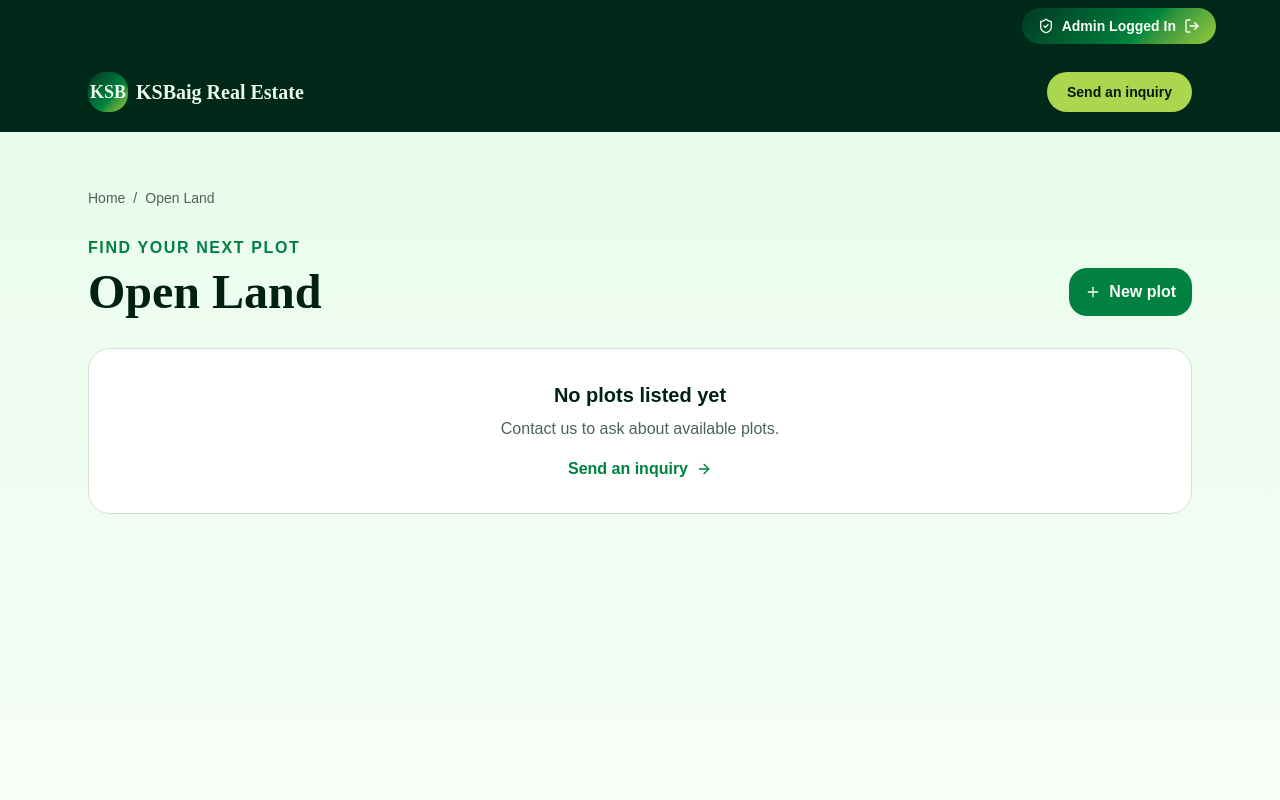
Open land listings › shows a storage error without adding a plot
Expected: the heading "Open Land" is shown, [88,268,321,316]
Step 1. Click the button "New plot" → (1131, 292), box [1069,268,1192,316]
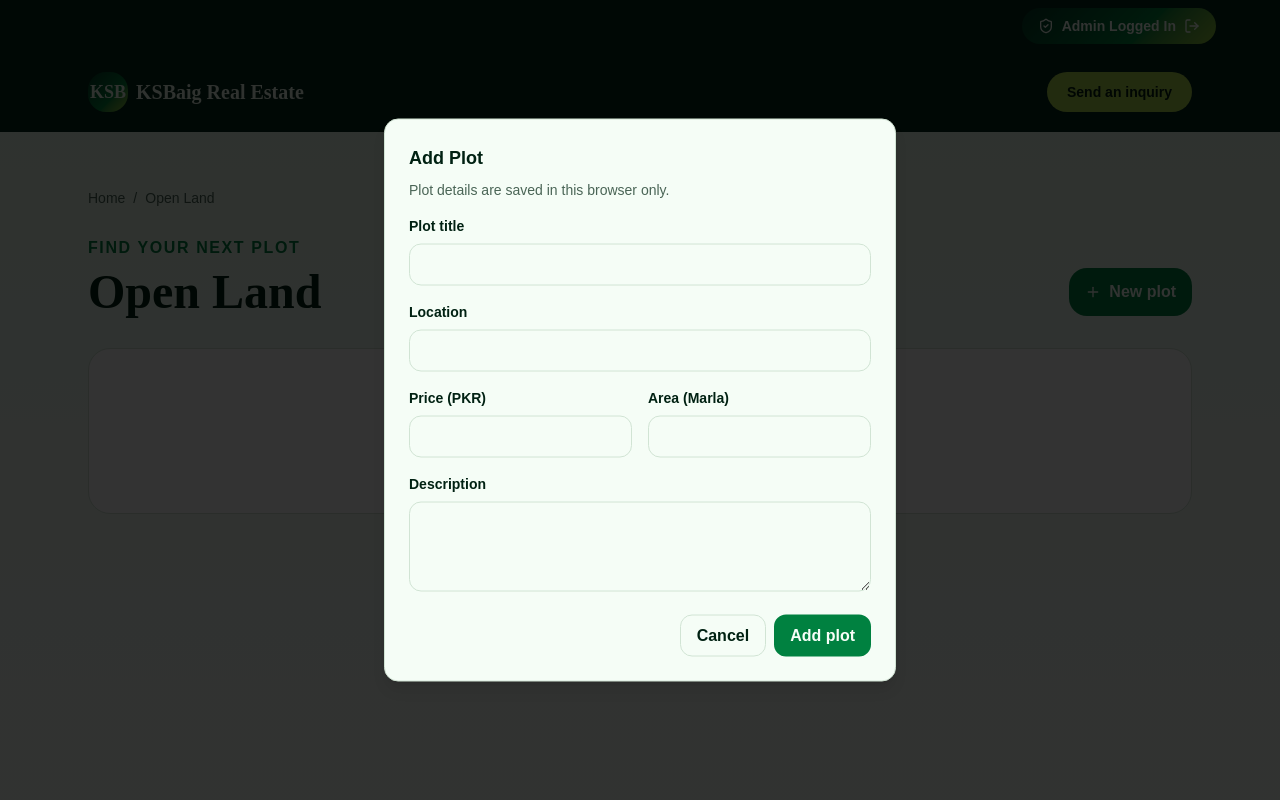
Step 2. Type "Plot" into the field labelled "Plot title" → (640, 264), box [409,244,871,286]
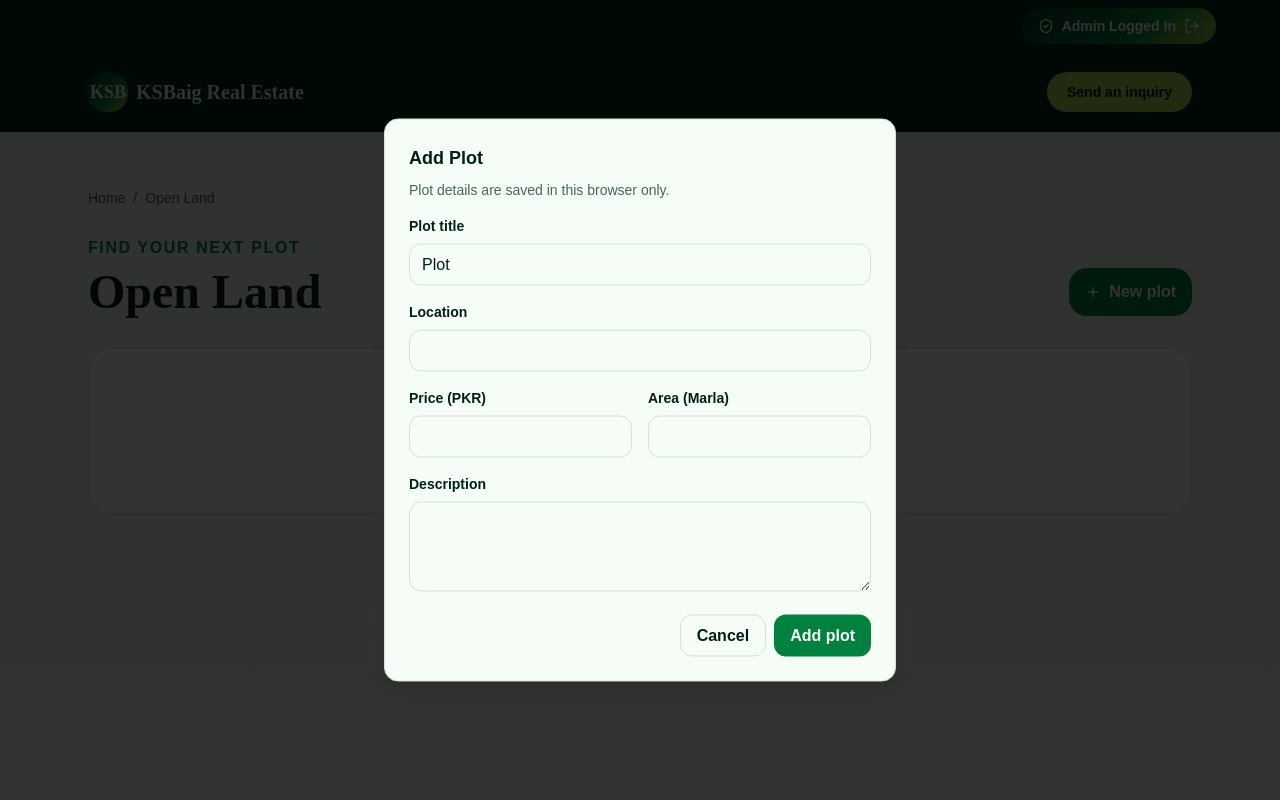
Step 3. Type "Lahore" into the field labelled "Location" → (640, 350), box [409,330,871,372]
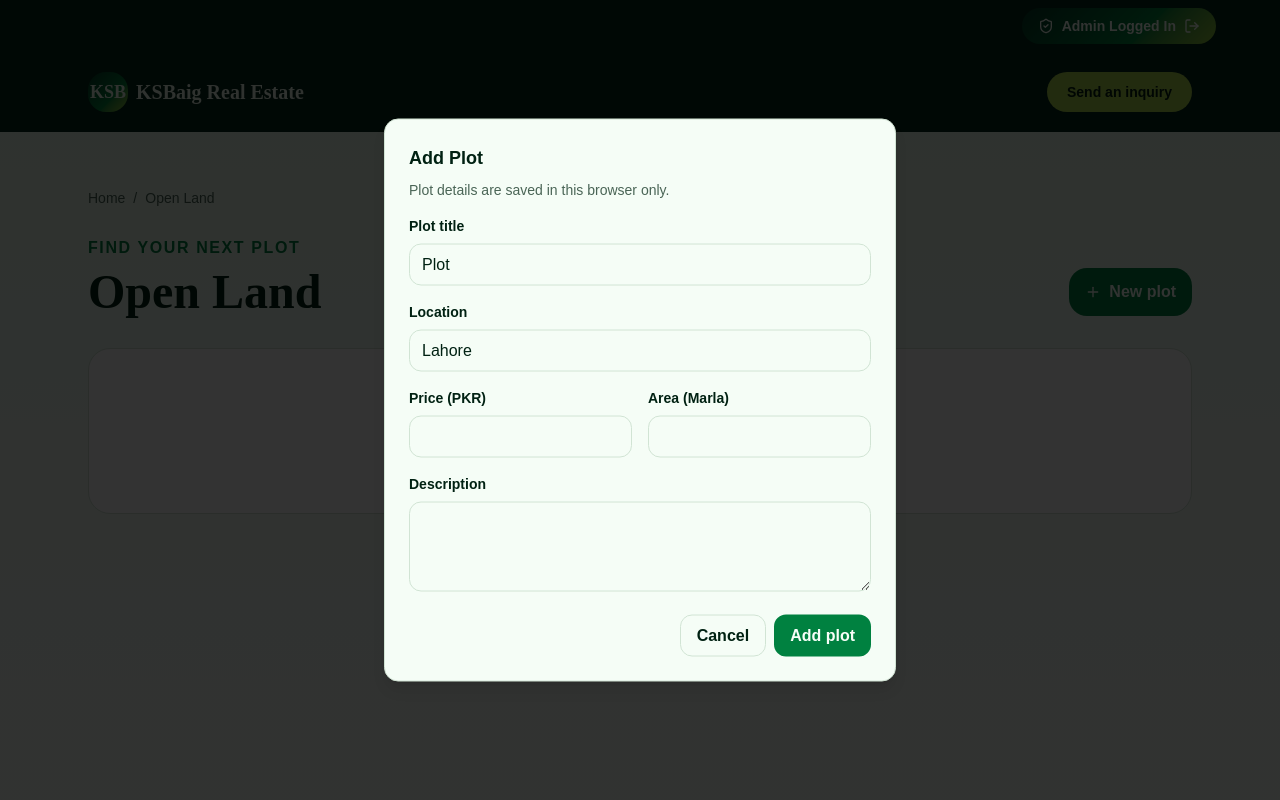
Step 4. Type "1000" into the number field labelled "Price (PKR)" → (520, 436), box [409,416,632,458]
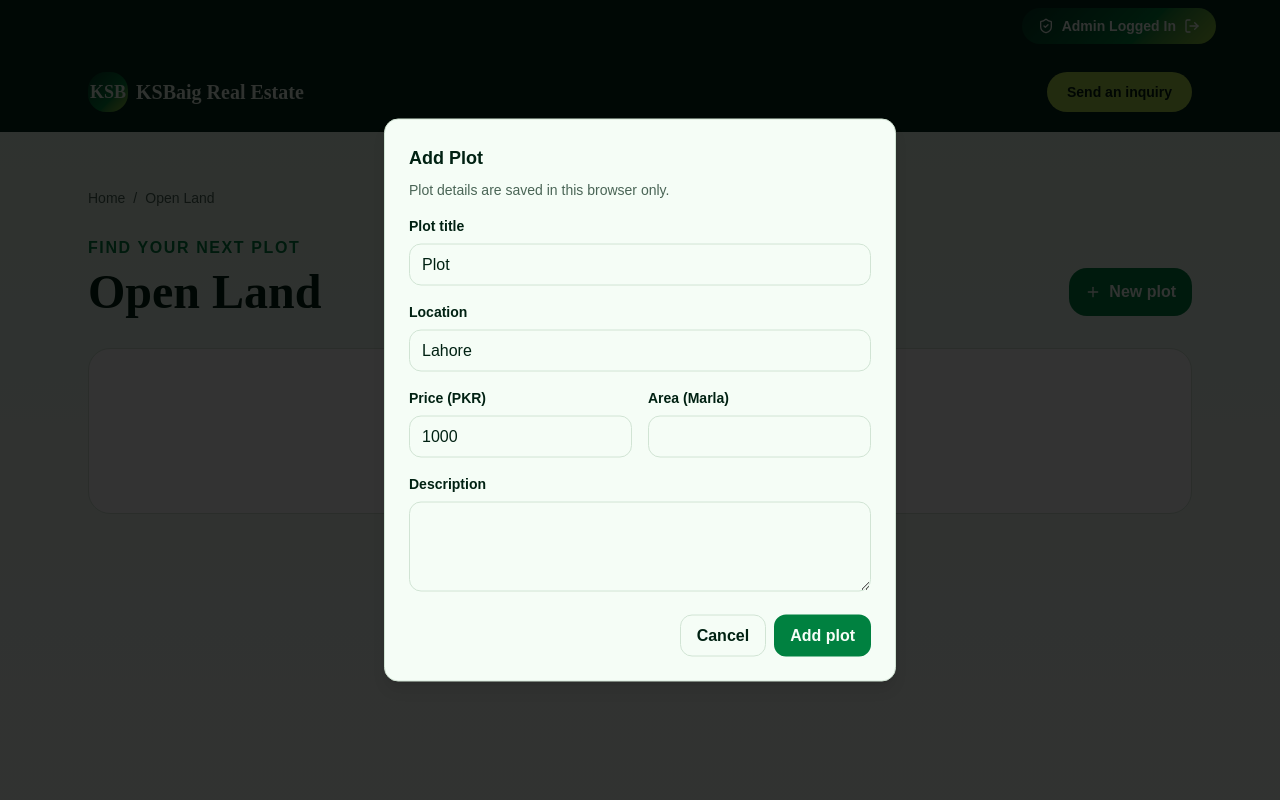
Step 5. Type "3" into the number field labelled "Area (Marla)" → (760, 436), box [648,416,871,458]
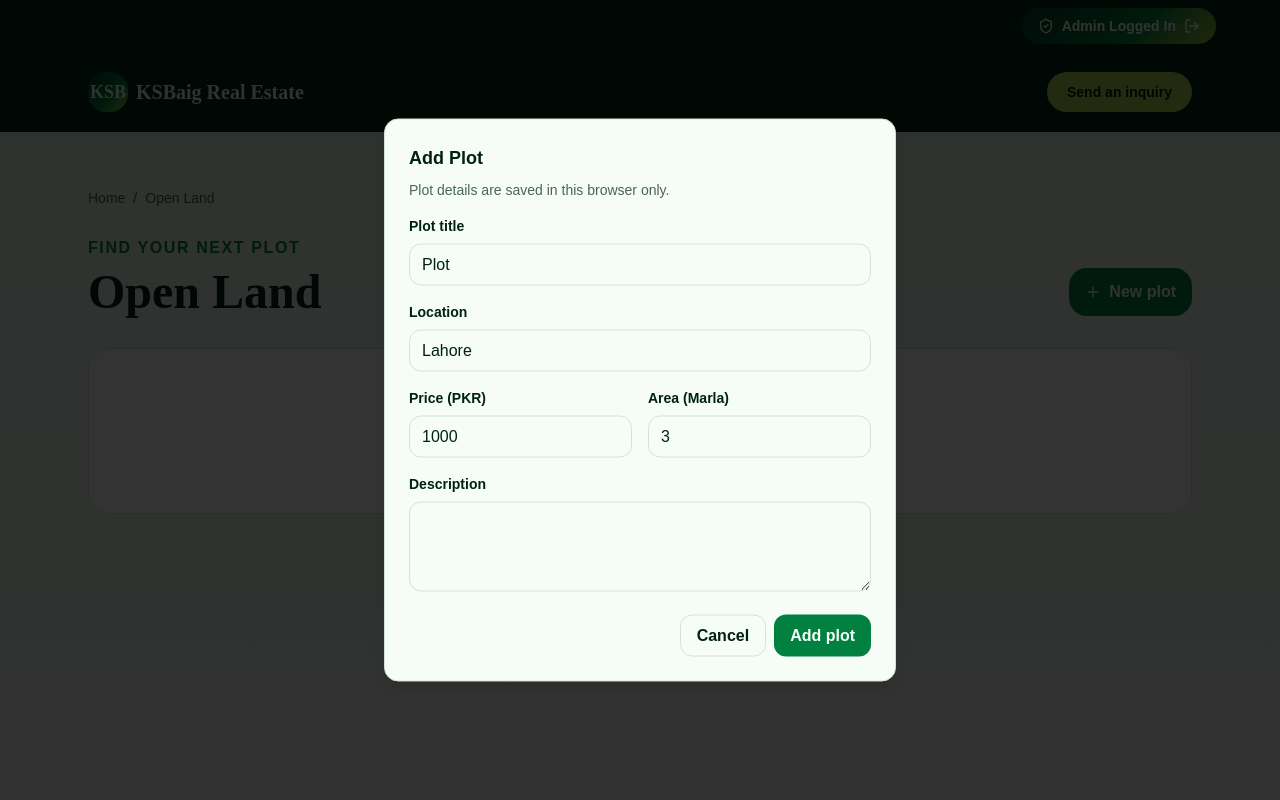
Step 6. Click the button "Add plot" → (823, 636), box [774,614,871,656]
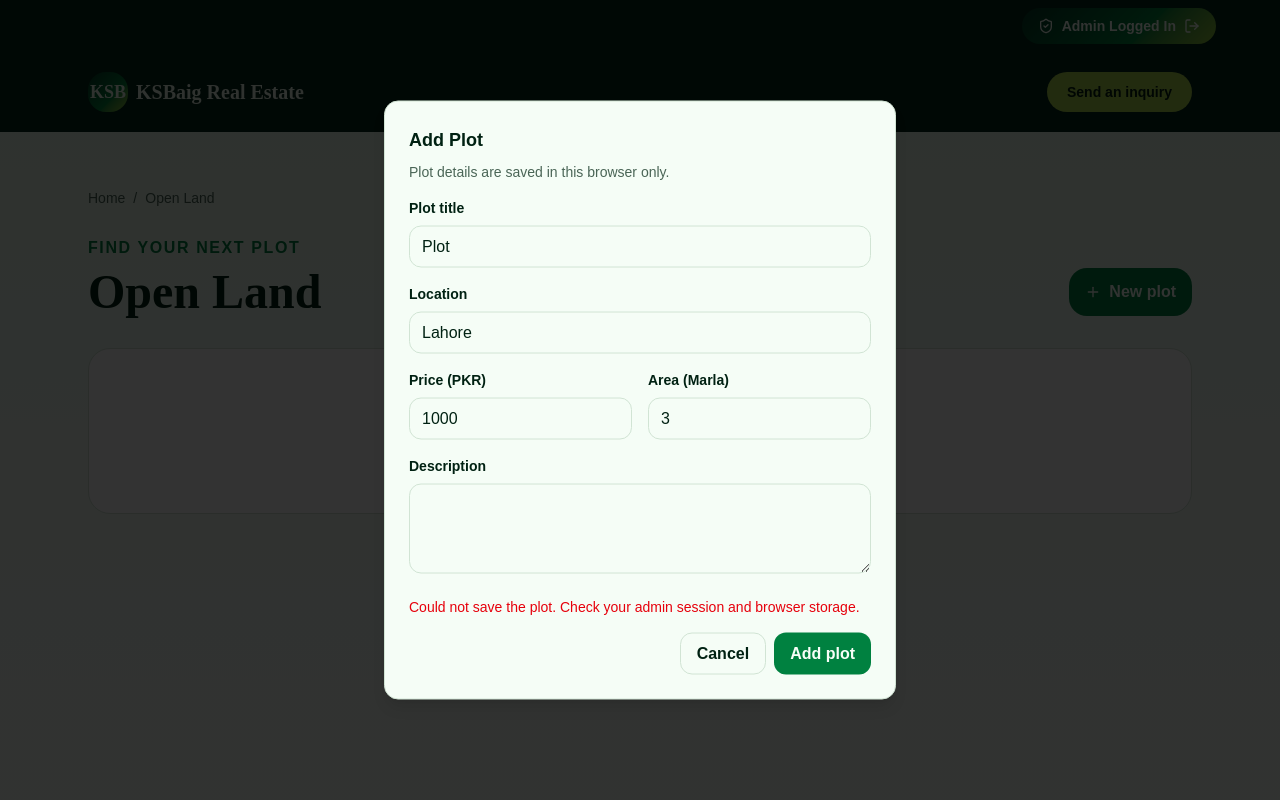
Now the message shows "Could not save the plot", box [409,598,860,614]
